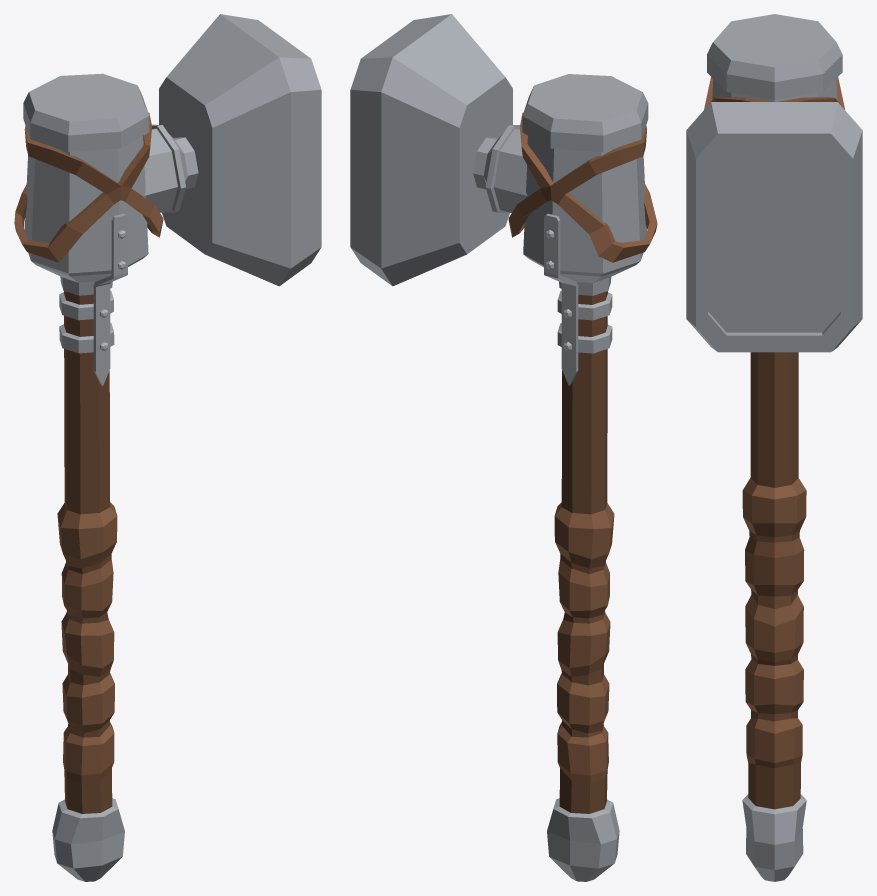
File: hammer.glb
3 renders of one model, left to right at view 1: azimuth 30°, elevation 25°; view 2: azimuth 150°, elevation 25°; view 3: azimuth 270°, elevation 25°, orthographic. The views are drawn at different scales.
Parts seen in each view (by area): view 1: Hammer_small; view 2: Hammer_small; view 3: Hammer_small.
Part boxes in pixels (x1=…): Hammer_small: x1=14, y1=14, x2=321, y2=881; Hammer_small: x1=350, y1=14, x2=657, y2=881; Hammer_small: x1=686, y1=14, x2=862, y2=881.
Bounding box in the file's own units: 1.49 × 4.33 × 0.8057.
